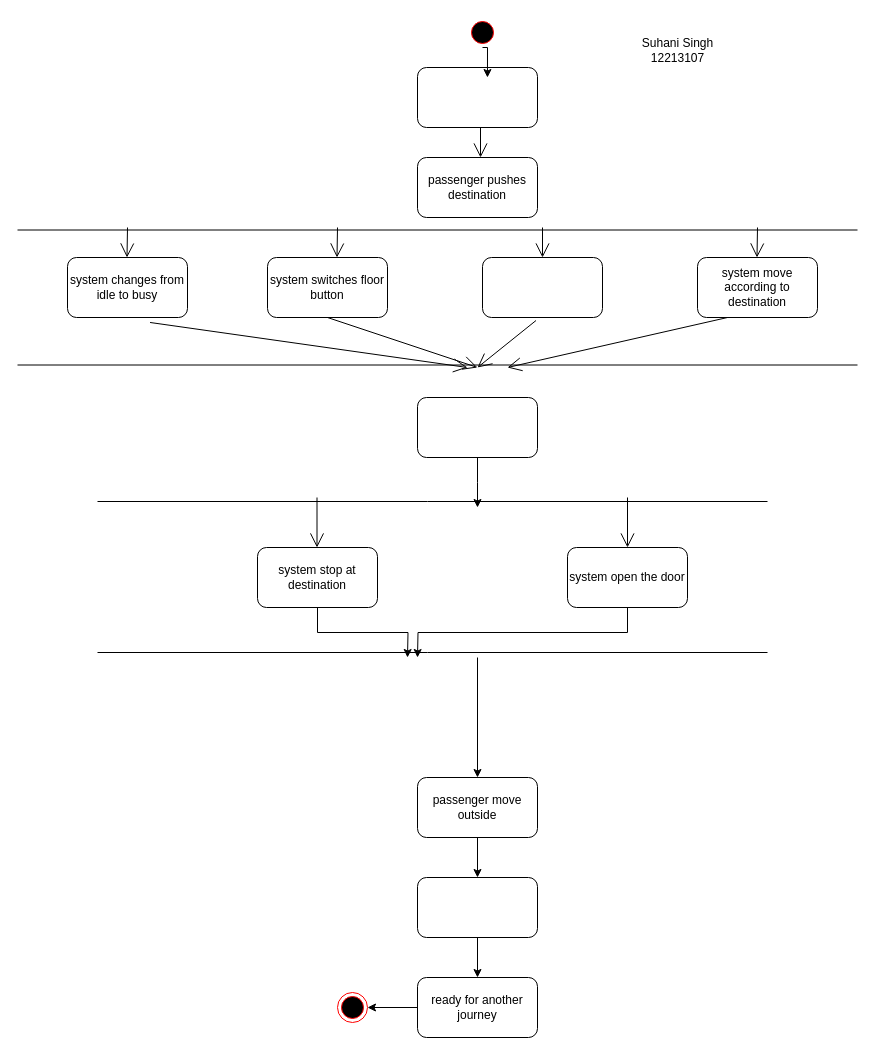
Some shapes in this 875 by 1055 pixel diagram are drawn without their labels. The centre of each missing label's shape, as x and y in pixels:
"passenger enter the lift" belongs at [477,97].
"system check weather elevator is going in correct destination" belongs at [477,427].
"system closes the door" belongs at [542,287].
"system switches internal button" belongs at [477,907].
